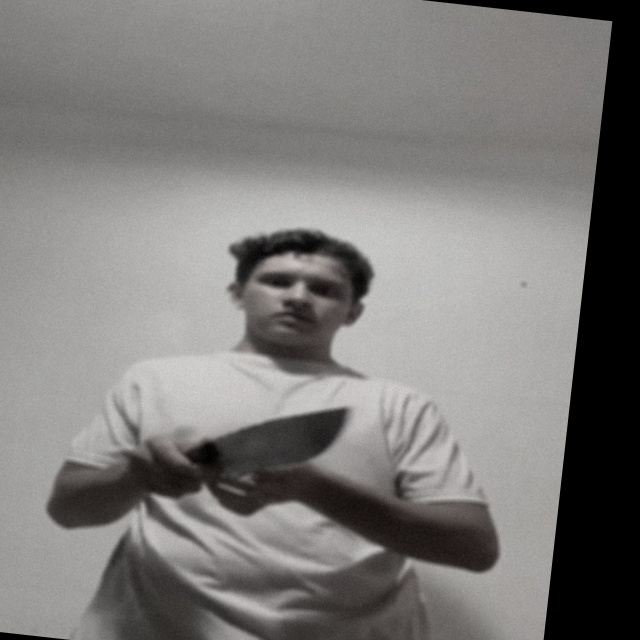Sharp-Object: (213, 393, 355, 493)
